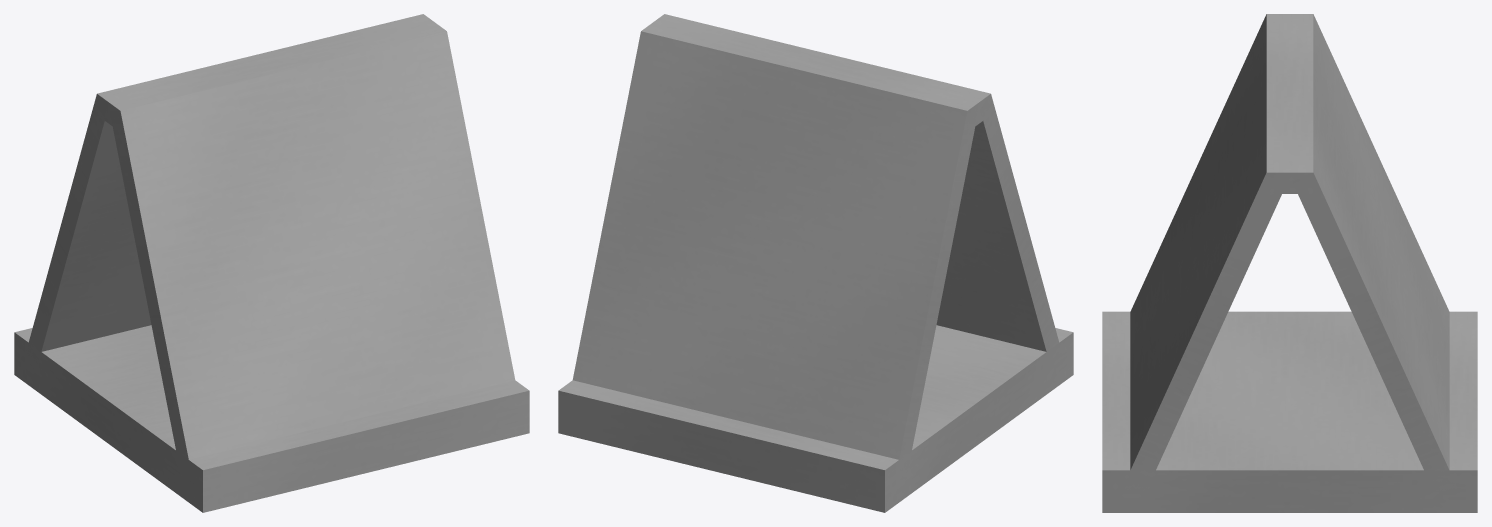
Rendered from platform_light_full_base.obj.
3 renders of one model, left to right at view 1: azimuth 30°, elevation 25°; view 2: azimuth 150°, elevation 25°; view 3: azimuth 270°, elevation 25°, orthographic.
Parts seen in each view (by area): view 1: 1, 0, 2, 3; view 2: 2, 0, 1, 3; view 3: 0, 2, 1, 3.
Part boxes in pixels (x1,y1,x2,y2): 1: (110,31,515,479); 0: (14,325,529,512); 2: (27,94,151,369); 3: (97,14,446,130); 2: (572,31,978,479); 0: (558,325,1073,512); 1: (936,94,1059,351); 3: (641,14,990,129); 0: (1102,311,1477,512); 2: (1292,14,1456,494); 1: (1123,14,1287,494); 3: (1266,14,1313,193).
Size of the model in its own units: 16 by 16 by 16.
